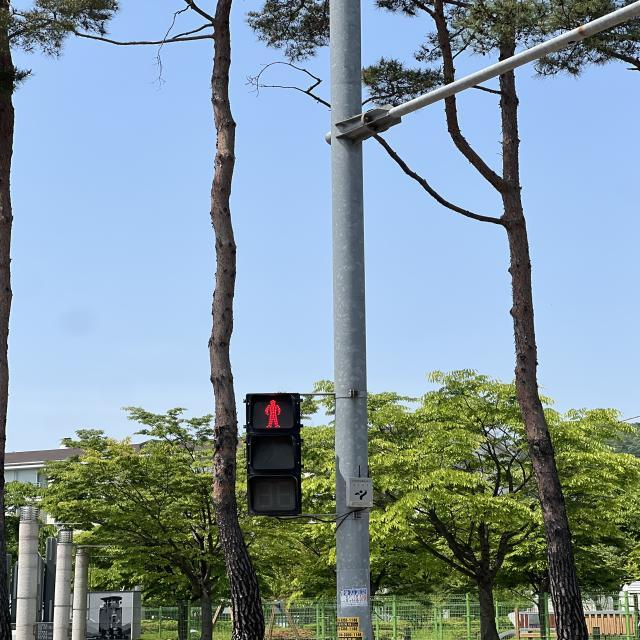red-light: (244, 401, 314, 516)
